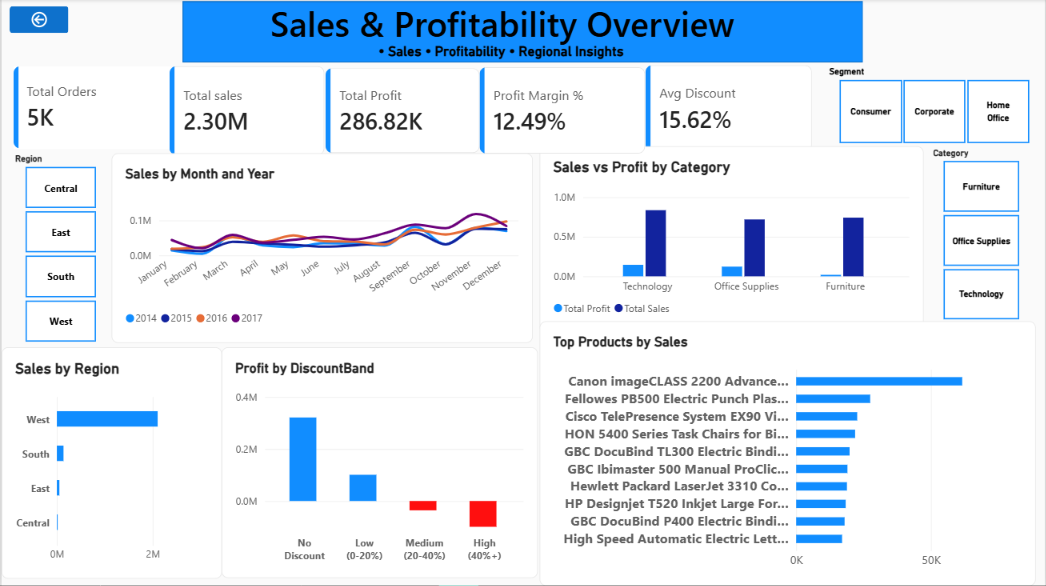

This screenshot's page, from the dashboard's own definition file:
{"tool":"powerbi","page":{"name":"Sales & Profitability Overview","canvas":[1280,720],"ordinal":0},"visuals":[{"type":"cardVisual","fields":{"Data":["Sum(Orders.Profit)"]},"box":[397.2,84.2,189.4,104.3],"z":0},{"type":"cardVisual","fields":{"Data":["Orders.Total Orders"]},"box":[14.3,81.8,192.6,101.8],"z":1000},{"type":"cardVisual","fields":{"Data":["Sum(Orders.Sales)"]},"box":[206.7,81.8,190.7,109.8],"z":2000},{"type":"cardVisual","fields":{"Data":["Avg(Orders.Discount)"]},"box":[789.8,80.5,204.9,106.7],"z":4000},{"type":"slicer","fields":{"Values":["Customers.Region"]},"box":[8.6,189,126.4,233.1],"z":5000},{"type":"slicer","fields":{"Values":["Products.Category"]},"box":[1135,181.6,132.5,213.5],"z":6000},{"type":"lineChart","title":"Sales by Month and Year","fields":{"Category":["Orders.OrderDate.Variation.Date Hierarchy.Month"],"Y":["Sum(Orders.Sales)"],"Series":["Orders.OrderDate.Variation.Date Hierarchy.Year"]},"box":[135,189,516.6,233.1],"z":7000},{"type":"clusteredColumnChart","title":"Sales vs Profit by Category","fields":{"Category":["Products.Category"],"Y":["Sum(Orders.Profit)","Sum(Orders.Sales)"]},"box":[660.1,180.4,471.2,229.4],"z":8000},{"type":"clusteredBarChart","title":"Sales by Region","fields":{"Category":["Customers.Region"],"Y":["Sum(Orders.Sales)"]},"box":[0,427,270.3,284],"z":9000},{"type":"clusteredColumnChart","title":" Profit by DiscountBand","fields":{"Category":["Orders.DiscountBand"],"Y":["Sum(Orders.Profit)"]},"box":[269.9,427,387.7,283.4],"z":10000},{"type":"clusteredBarChart","title":"Top Products by Sales","fields":{"Category":["Products.ProductName"],"Y":["Sum(Orders.Sales)"]},"box":[660.1,395.1,608.6,325.2],"z":11000},{"type":"cardVisual","fields":{"Data":["Orders.Profit Margin %"]},"box":[586.4,83,203.7,106.7],"z":12000},{"type":"slicer","fields":{"Values":["Customers.Segment"]},"box":[1007.3,82.1,272.7,96],"z":13000},{"type":"actionButton","box":[9.8,8.6,72.4,33.1],"z":14000},{"type":"shape","box":[222.6,2.8,834.8,75.1],"z":15000},{"type":"textbox","box":[100,100,300,300],"z":16000},{"type":"textbox","box":[222.6,0,784.7,77.9],"z":16500},{"type":"textbox","box":[393.7,54.3,450.8,23.7],"z":16501}]}

Visuals, with their boxes in screenshot pixels (x1, y1, x2, y2), scaled from the page's 1280x720 canvas onto the 1046x586 screenshot:
cardVisual - Sum(Orders.Profit): bbox=(325, 69, 479, 153)
cardVisual - Orders.Total Orders: bbox=(12, 67, 169, 149)
cardVisual - Sum(Orders.Sales): bbox=(169, 67, 325, 156)
cardVisual - Avg(Orders.Discount): bbox=(645, 66, 813, 152)
slicer - Customers.Region: bbox=(7, 154, 110, 344)
slicer - Products.Category: bbox=(928, 148, 1036, 322)
"Sales by Month and Year" lineChart: bbox=(110, 154, 532, 344)
"Sales vs Profit by Category" clusteredColumnChart: bbox=(539, 147, 924, 334)
"Sales by Region" clusteredBarChart: bbox=(0, 348, 221, 579)
" Profit by DiscountBand" clusteredColumnChart: bbox=(221, 348, 537, 578)
"Top Products by Sales" clusteredBarChart: bbox=(539, 322, 1037, 585)
cardVisual - Orders.Profit Margin %: bbox=(479, 68, 646, 154)
slicer - Customers.Segment: bbox=(823, 67, 1045, 145)
actionButton: bbox=(8, 7, 67, 34)
shape: bbox=(182, 2, 864, 63)
textbox: bbox=(82, 81, 327, 326)
textbox: bbox=(182, 0, 823, 63)
textbox: bbox=(322, 44, 690, 63)
